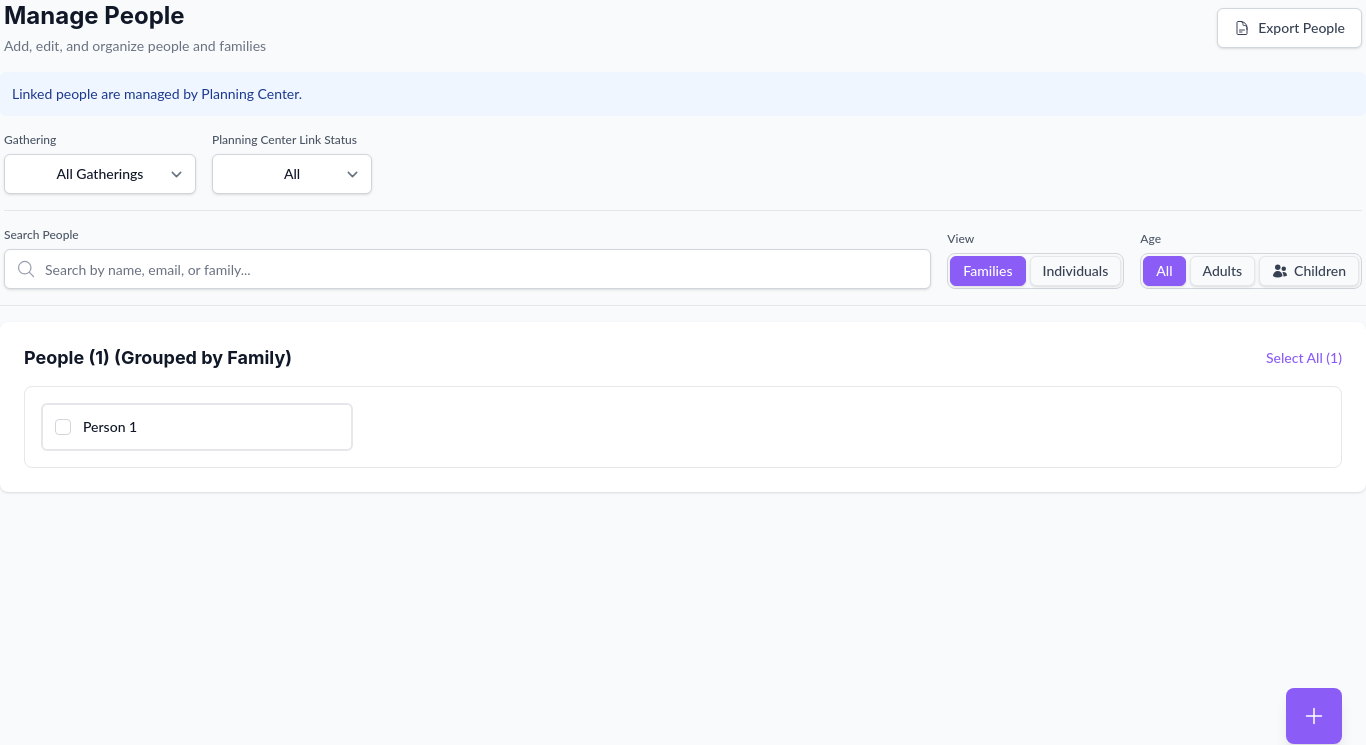
Test case: PeoplePage external source filter › explains provider ownership and the batch schedule when editing a managed person
Click the text "Person 1".
click(110, 427)  # box [83, 417, 137, 437]
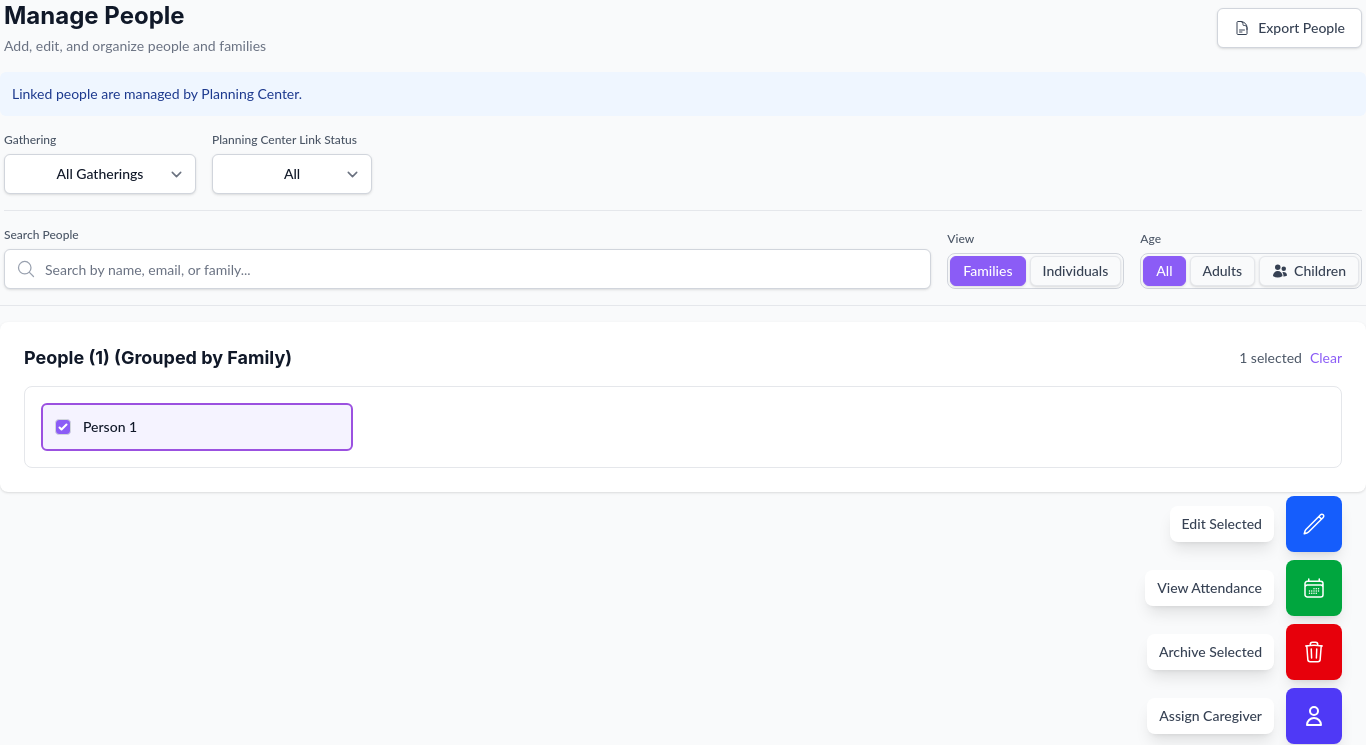
Click the button titled "Edit Selected".
click(1314, 524)  # box [1286, 496, 1342, 552]
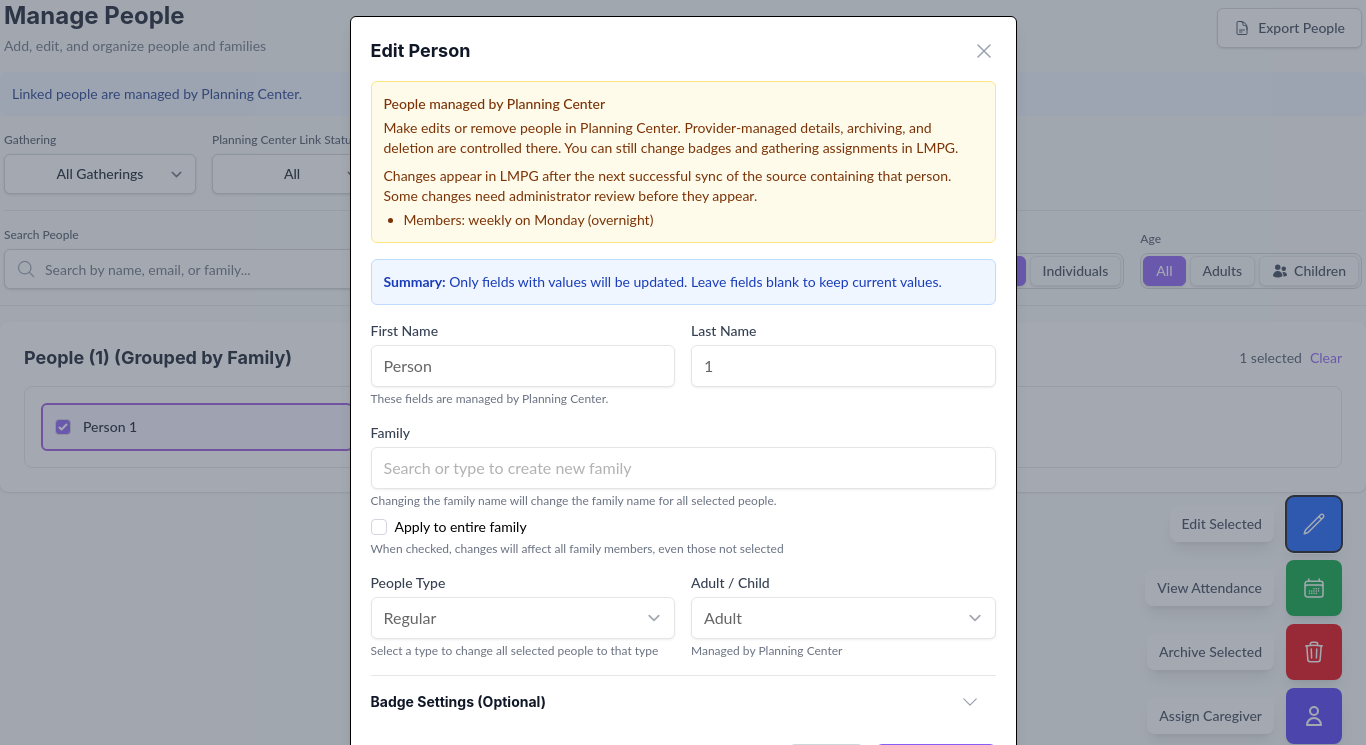
expect the text "Make edits or remove people in Planning Center" is shown: met, box [384, 118, 982, 158]
expect the list item "Members: weekly on Monday (overnight)" is shown: met, box [404, 211, 653, 228]
expect the field with placeholder "Enter first name" below "First Name" is disabled: met, box [370, 345, 675, 387]
